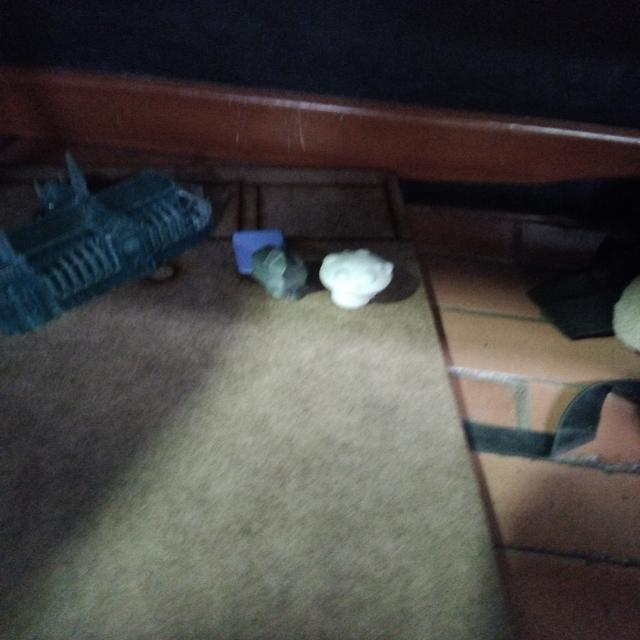Hongo: (308, 245, 403, 319)
